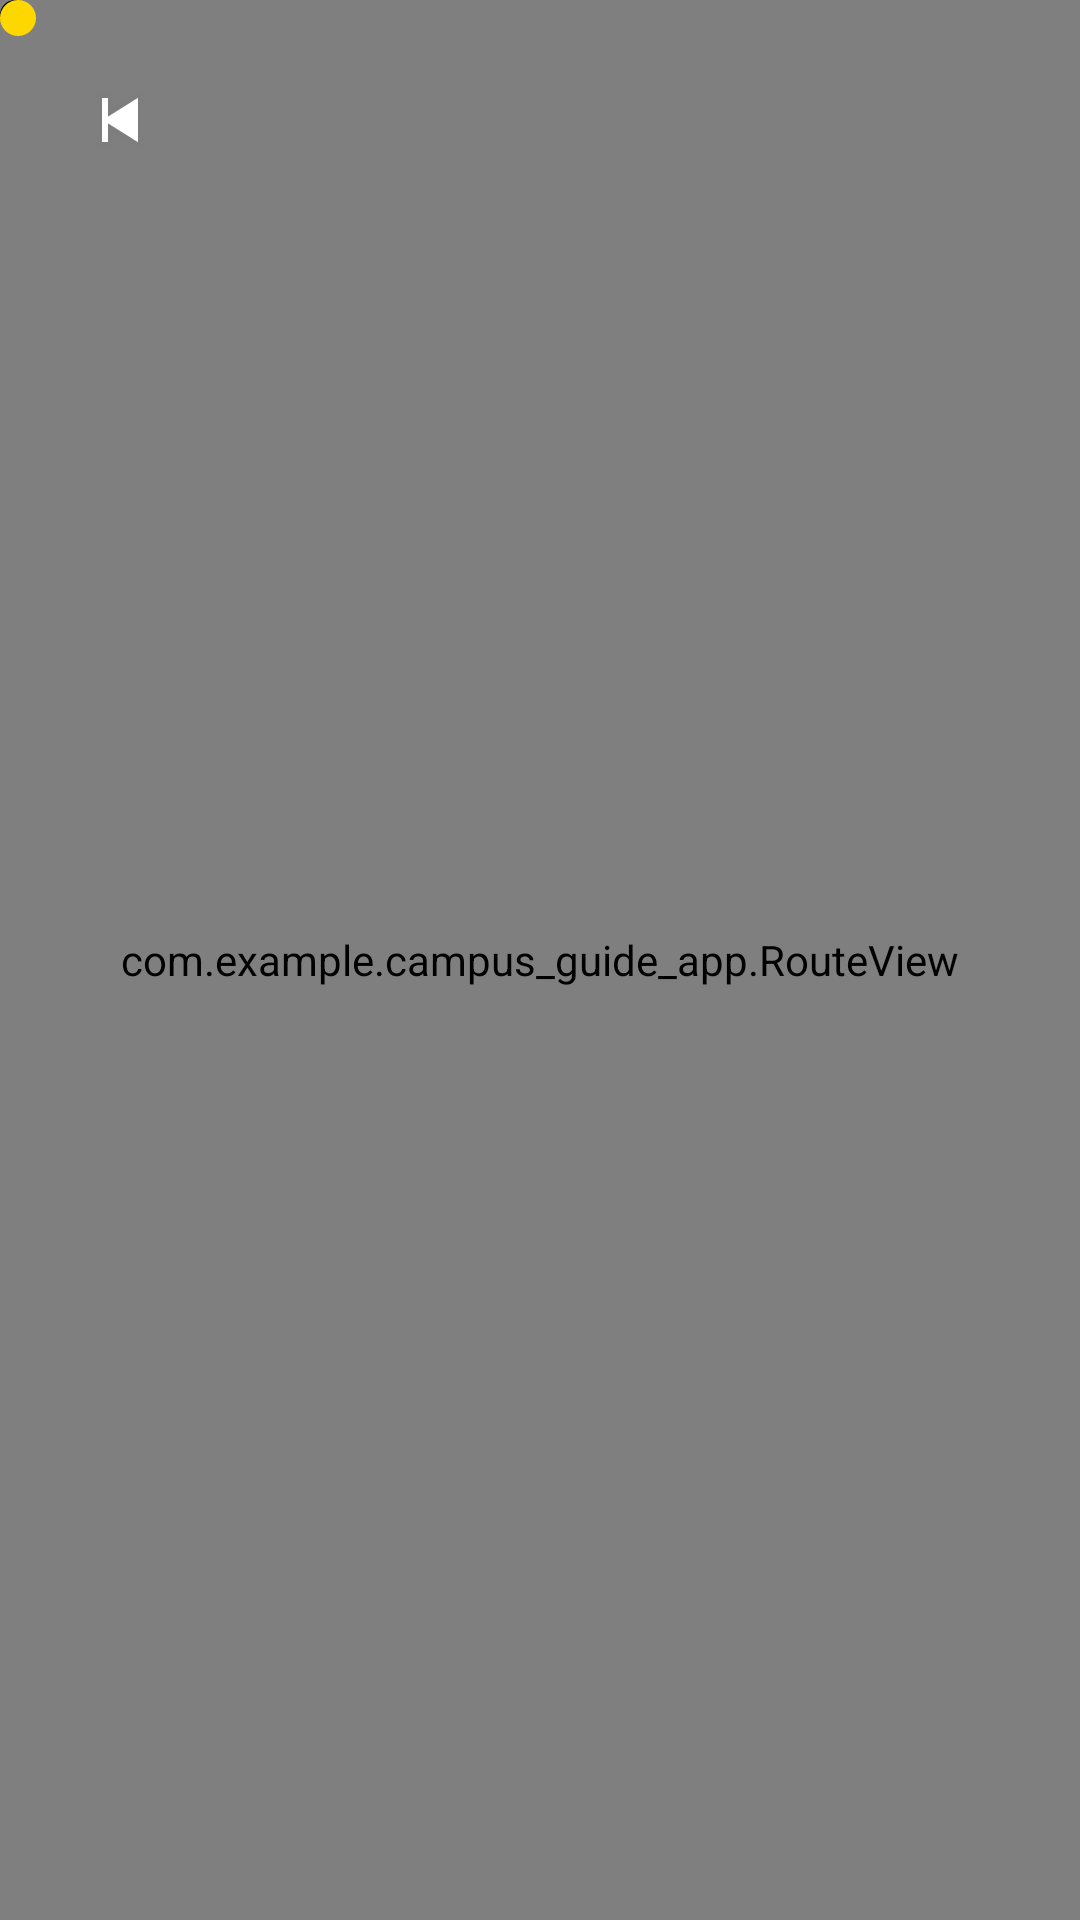

Where icons sit on this 1080px x 1920px app screen, as detection(x1, y1, x2, y2):
previous: detection(102, 98, 138, 142)
